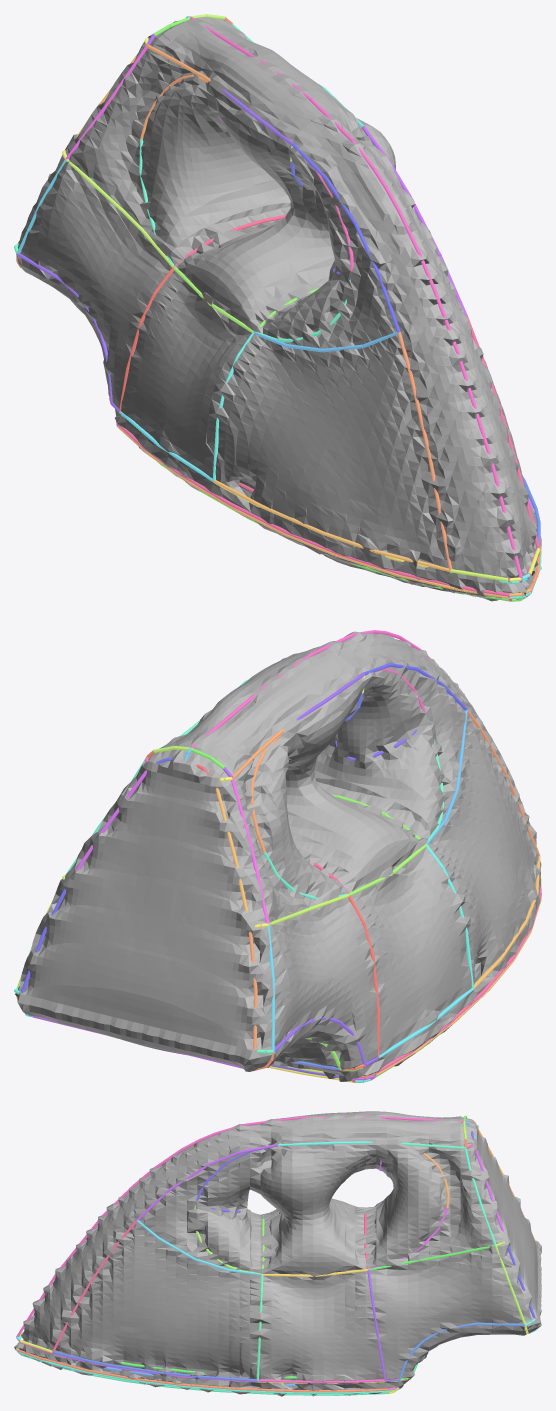
Rendered from onshape_iron.gltf.
The picture shows the model from 3 angles, top to bottom: view 1: azimuth 30°, elevation 25°; view 2: azimuth 150°, elevation 25°; view 3: azimuth 270°, elevation 25°; orthographic projection. The views are drawn at different scales.
Bounding box in the file's own units: 0.3418 × 0.4357 × 0.8528.
